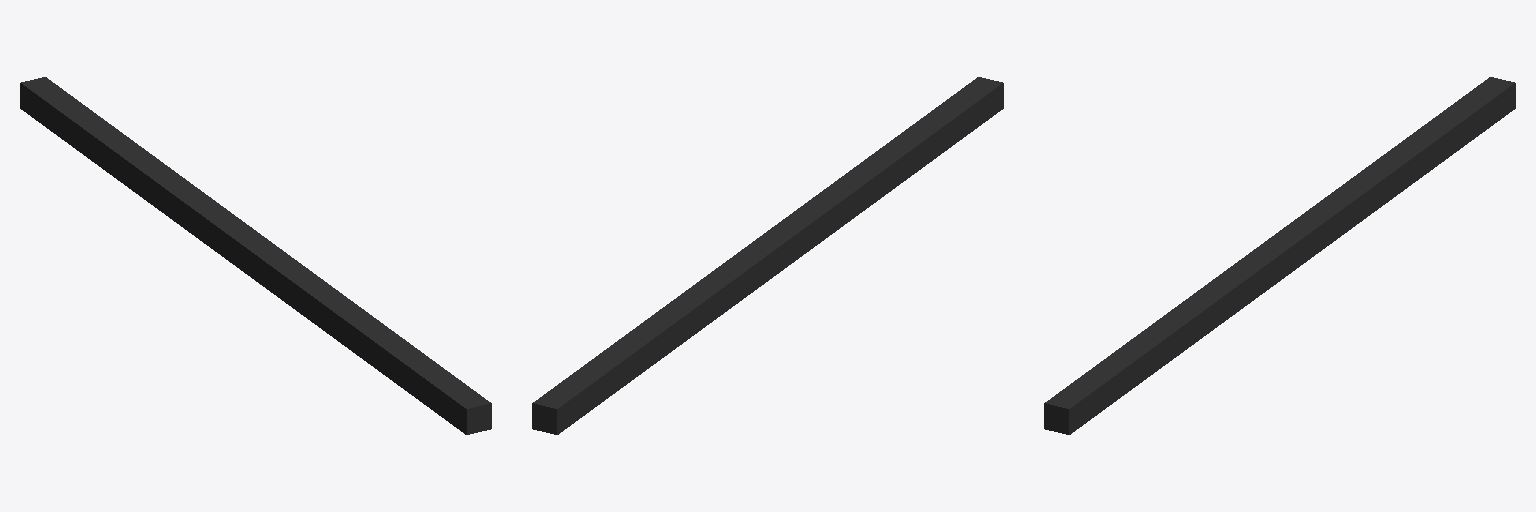
robot.urdf — wall:
<robot name="wall">
  <link name="baseLink">
   
    <inertial>
      <origin rpy="0 0 0" xyz="0 0 0" />
       <mass value="10" />
       <inertia ixx="0" ixy="0" ixz="0" iyy="0" iyz="0" izz="0" />
    </inertial>
    <visual>
      <origin rpy="0 0 0" xyz="0 0 0" />
      <geometry>
			  <box size="0.1 3.1 0.1" />
      </geometry>
       <material name="grey">
        <color rgba="0.24 0.24 0.24 1" />
      </material>
    </visual>
    <collision>
      <origin rpy="0 0 0" xyz="0 0 0" />
      <geometry>
	 	      <box size="0.1 3.1 0.1" />
      </geometry>
    </collision>
  </link>
</robot>

--- Facts derived from the render (not from the file) ---
Views: 3 orthographic renders of the robot side by side, from view 1: azimuth 30°, elevation 25°; view 2: azimuth 150°, elevation 25°; view 3: azimuth 330°, elevation 25°.
Model wall with 1 links and 0 joints (none), rooted at baseLink, posed all joints at 0.
Visible links, largest first — view 1: baseLink; view 2: baseLink; view 3: baseLink.
Link boxes in pixels (left/top/right/bottom): baseLink: left=20, top=77, right=491, bottom=434; baseLink: left=532, top=77, right=1003, bottom=434; baseLink: left=1044, top=77, right=1515, bottom=434.
Bounding box of the posed robot: 0.1 × 3.1 × 0.1 m (x, y, z).
Geometry: primitives only (box / cylinder / sphere), no mesh files.
